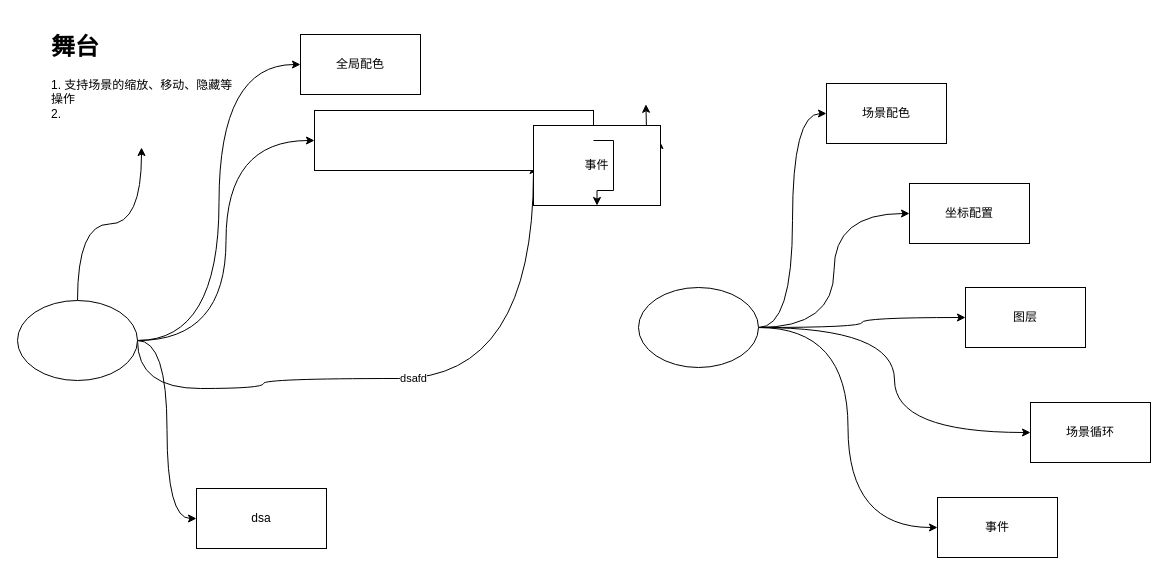
Some shapes in this 1168 by 575 pixel diagram are drawn without their labels. The shapes that lost their labels are listed below. From the top down, each one's centre as x and y in pixels, then its label:
point 454,140: xc
point 77,340: 舞台
point 698,327: 场景
